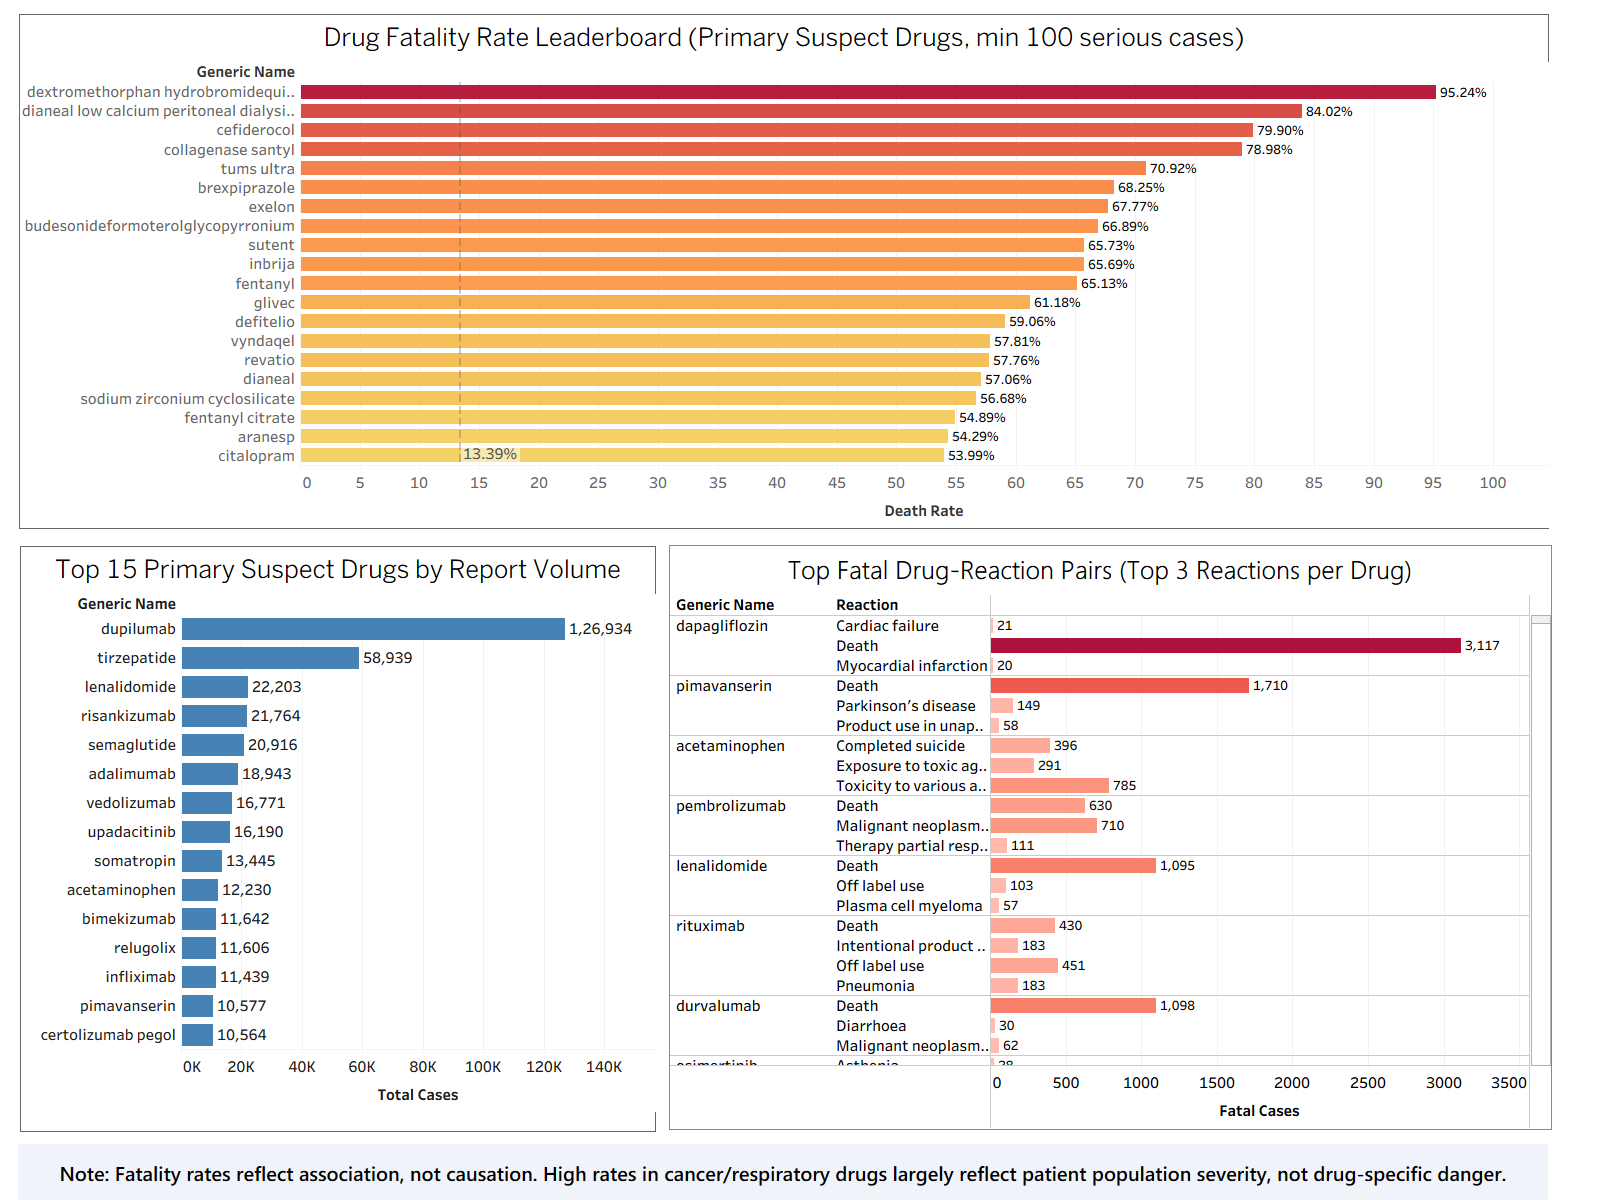

The page's visual inventory and layout, read from the dashboard file:
{"tool":"tableau","page":{"name":"Drug Safety Signals","canvas":[1600,1200],"ordinal":1},"visuals":[{"type":"worksheet","title":"Drug Death Rate Leaderboard","mark":"Bar","rows":["generic_name"],"cols":["death_rate"],"box":[19,14,1530,515]},{"type":"worksheet","title":"Fatal Drug-Reaction Pairs","mark":"Bar","rows":["generic_name","reaction"],"cols":["fatal_cases"],"box":[669,545,883,585]},{"type":"worksheet","title":"Top Drugs by Volume","mark":"Bar","rows":["generic_name"],"cols":["total_cases"],"box":[20,546,636,586]},{"type":"text","box":[18,1144,1530,57]}]}

Visuals, with their boxes in screenshot pixels (x1, y1, x2, y2), scaled from the page's 1600x1200 canvas onto the 1600x1200 screenshot:
"Drug Death Rate Leaderboard" worksheet (Bar marks): 19 14 1549 529
"Fatal Drug-Reaction Pairs" worksheet (Bar marks): 669 545 1552 1130
"Top Drugs by Volume" worksheet (Bar marks): 20 546 656 1132
text: 18 1144 1548 1199
